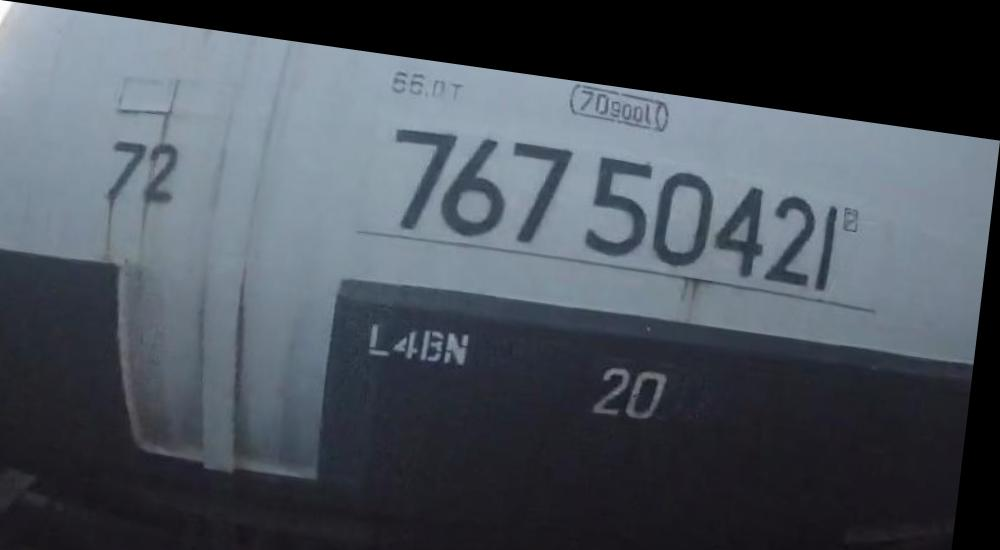Wagon-number: (380, 107, 848, 277)
